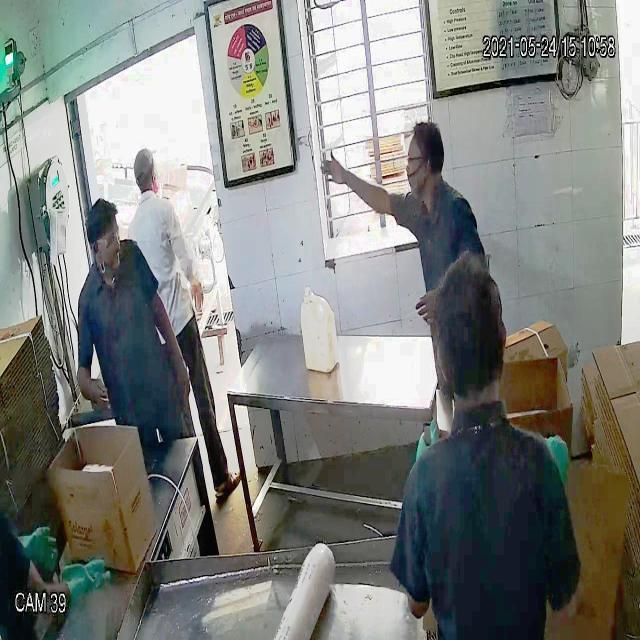glasses: (87, 218, 121, 252)
